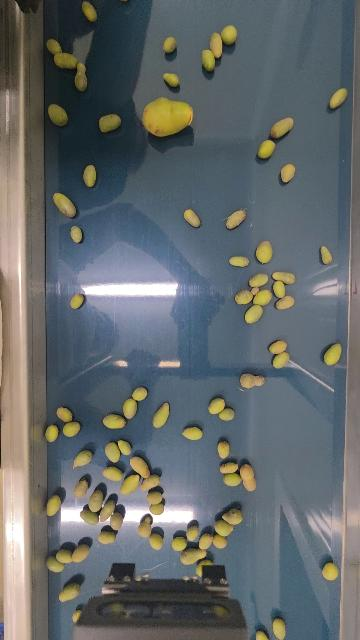Baby Potato: (139, 96, 195, 139), (53, 191, 77, 218), (269, 115, 296, 138), (239, 462, 258, 492), (225, 208, 248, 231), (47, 103, 69, 127), (179, 547, 208, 565), (129, 455, 151, 478), (53, 51, 79, 70), (152, 402, 170, 429), (239, 372, 266, 390), (58, 581, 80, 603), (328, 86, 348, 110), (98, 113, 122, 133), (97, 498, 117, 522), (324, 342, 343, 367), (73, 61, 88, 92), (208, 31, 224, 59), (120, 473, 140, 495), (234, 287, 257, 306), (255, 240, 273, 264), (252, 287, 273, 307), (220, 23, 239, 45), (257, 138, 276, 160), (221, 507, 244, 525), (244, 304, 264, 324), (72, 449, 93, 468), (214, 518, 235, 537), (272, 269, 296, 285), (200, 48, 216, 72), (102, 413, 126, 429), (139, 473, 160, 491), (104, 441, 121, 463), (46, 494, 62, 517), (81, 0, 97, 23), (122, 397, 138, 420), (184, 208, 202, 228), (71, 543, 89, 563), (322, 561, 339, 582), (274, 294, 296, 310), (102, 466, 124, 482), (89, 489, 104, 512), (272, 617, 287, 640), (272, 350, 290, 369), (208, 396, 226, 415), (248, 272, 269, 288), (162, 71, 181, 88), (280, 163, 296, 183), (216, 439, 231, 460), (137, 516, 152, 537), (73, 478, 88, 499), (182, 426, 203, 441), (83, 164, 96, 188), (63, 420, 81, 437), (47, 556, 65, 573), (80, 509, 99, 525), (269, 339, 288, 355), (272, 279, 287, 299), (222, 471, 242, 486), (56, 405, 73, 422), (198, 532, 214, 550), (110, 510, 124, 530), (229, 255, 250, 268), (219, 461, 240, 474), (162, 35, 177, 53), (97, 530, 116, 544), (320, 245, 333, 265), (46, 38, 62, 54), (69, 293, 85, 309), (132, 385, 148, 401), (212, 533, 228, 549), (149, 533, 164, 550), (186, 524, 199, 543), (70, 225, 83, 244), (46, 423, 59, 442), (56, 548, 72, 563), (219, 406, 235, 421), (171, 536, 187, 551), (117, 439, 131, 456), (146, 490, 162, 504), (149, 503, 164, 515), (71, 609, 82, 622), (255, 630, 269, 640), (198, 557, 212, 566), (195, 563, 204, 576)
